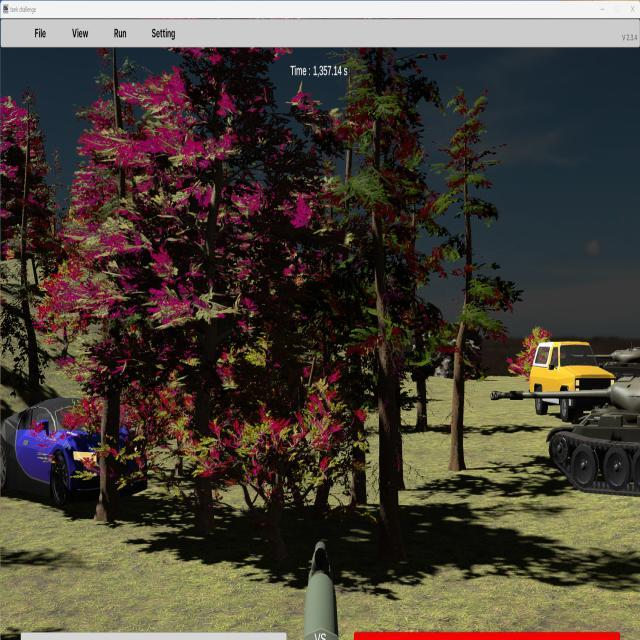Tank: (489, 375, 640, 499), (575, 345, 640, 383)
car: (0, 398, 142, 507), (529, 340, 617, 421)
